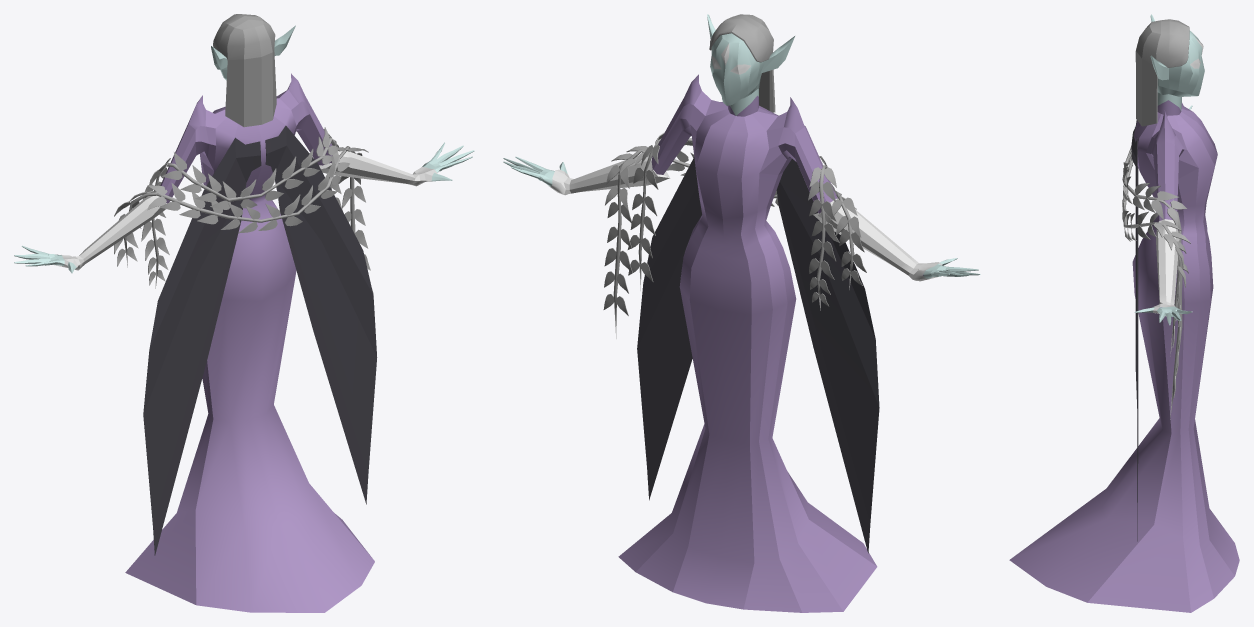
Rendered from Seer.fbx.
3 renders of one model, left to right at view 1: azimuth 30°, elevation 25°; view 2: azimuth 150°, elevation 25°; view 3: azimuth 270°, elevation 25°, orthographic. The views are drawn at different scales.
Visible parts, largest first — view 1: Body, Wings, Hair, armguards2, Hands, Vine, Vine1; view 2: Body, Wings, armguards2, Hair, Hands, Vine, Vine1; view 3: Body, Hair, armguards2, Wings, Vine, Vine1, Hands.
Boxes of the visible parts, x1,y1,x2,y2 form: Body: [125, 25, 374, 612]; Wings: [143, 125, 377, 555]; Hair: [213, 14, 276, 127]; armguards2: [53, 151, 437, 270]; Hands: [14, 142, 474, 273]; Vine: [124, 146, 355, 267]; Vine1: [151, 137, 332, 288]; Body: [618, 14, 877, 612]; Wings: [637, 157, 879, 553]; armguards2: [547, 155, 942, 281]; Hair: [709, 14, 775, 112]; Hands: [503, 156, 980, 278]; Vine: [613, 149, 854, 338]; Vine1: [638, 138, 826, 310]; Body: [1009, 14, 1239, 612]; Hair: [1135, 19, 1189, 126]; armguards2: [1153, 219, 1179, 316]; Wings: [1131, 120, 1138, 541]; Vine: [1122, 156, 1182, 419]; Vine1: [1122, 146, 1181, 356]; Hands: [1134, 105, 1192, 325].
Bounding box in the file's own units: 6.82 × 7.63 × 2.96.
